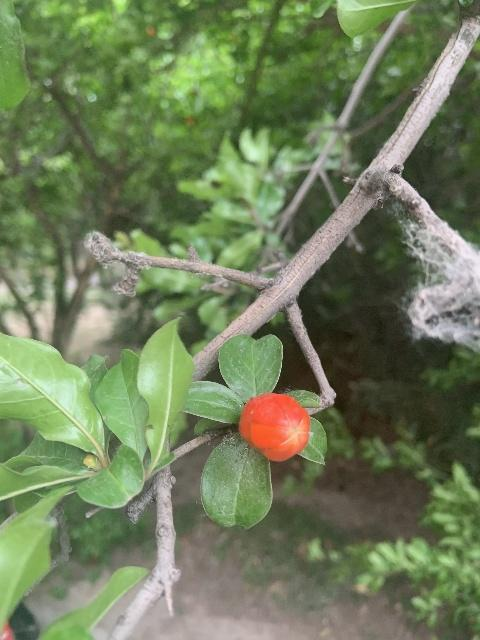bud: (238, 392, 310, 462)
